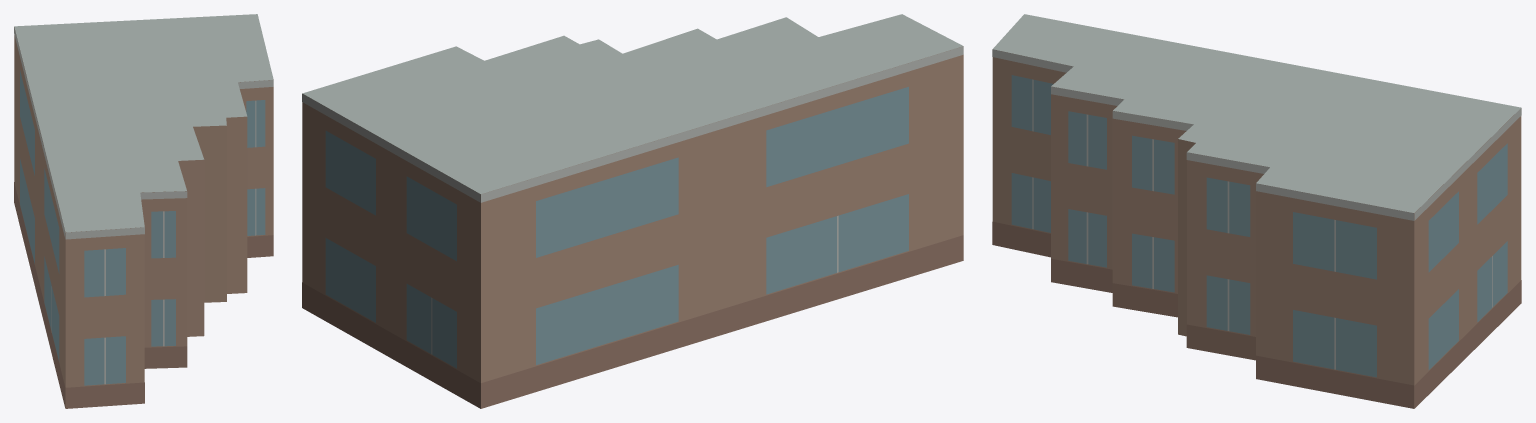
The model's file is survey-upis-32990041.glb.
3 renders of one model, left to right at view 1: azimuth 30°, elevation 25°; view 2: azimuth 150°, elevation 25°; view 3: azimuth 270°, elevation 25°, orthographic. The views are drawn at different scales.
Parts seen in each view (by area): view 1: survey-upis-32990041.tmp; view 2: survey-upis-32990041.tmp; view 3: survey-upis-32990041.tmp.
Part boxes in pixels (bbox=[...]): survey-upis-32990041.tmp: bbox=[14, 14, 273, 408]; survey-upis-32990041.tmp: bbox=[302, 14, 963, 408]; survey-upis-32990041.tmp: bbox=[992, 14, 1521, 408].
Size of the model in its own units: 13.32 by 6.1 by 14.96.
